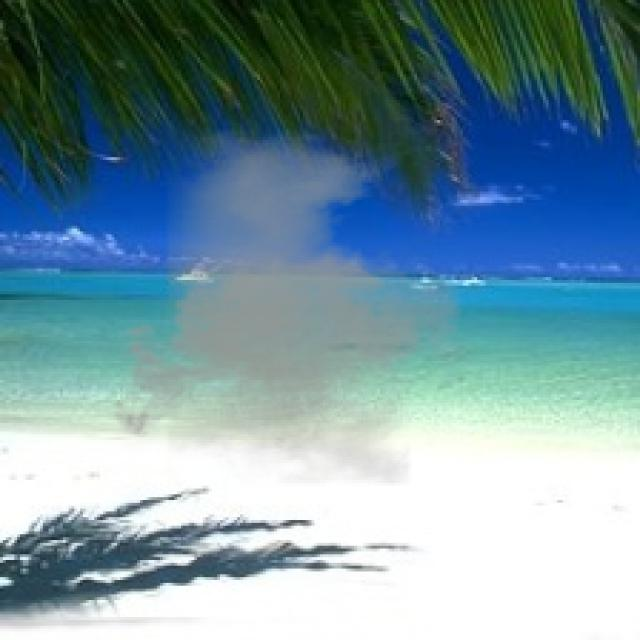smoke: (100, 128, 477, 486)
